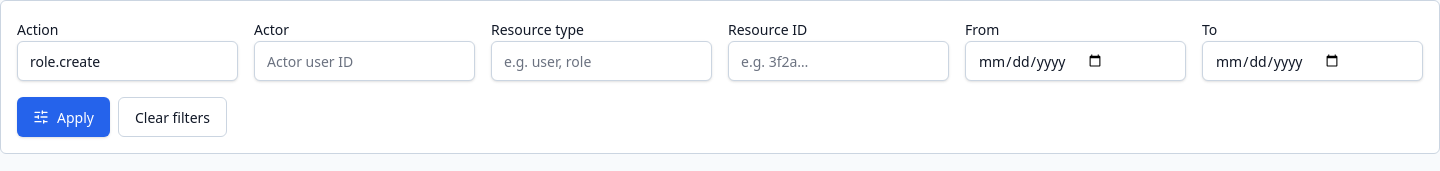
Test: FilterBar › clears inputs and applies empty filters
Click the button with test id "audit-clear-filters".
click(172, 117)  # box top-left (118, 97), bottom-right (227, 137)
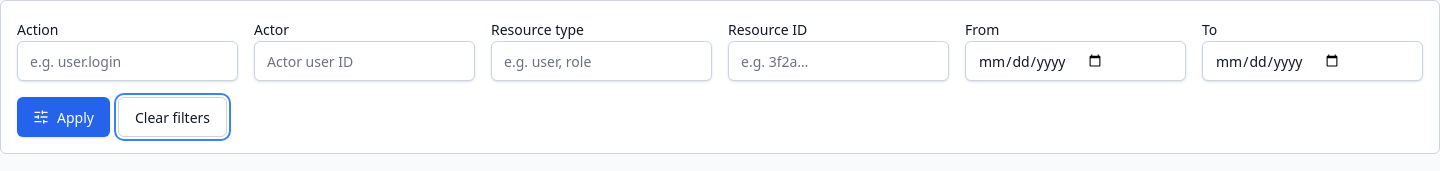
expect the field labelled "Action" is empty: met, box top-left (17, 41), bottom-right (238, 81)
